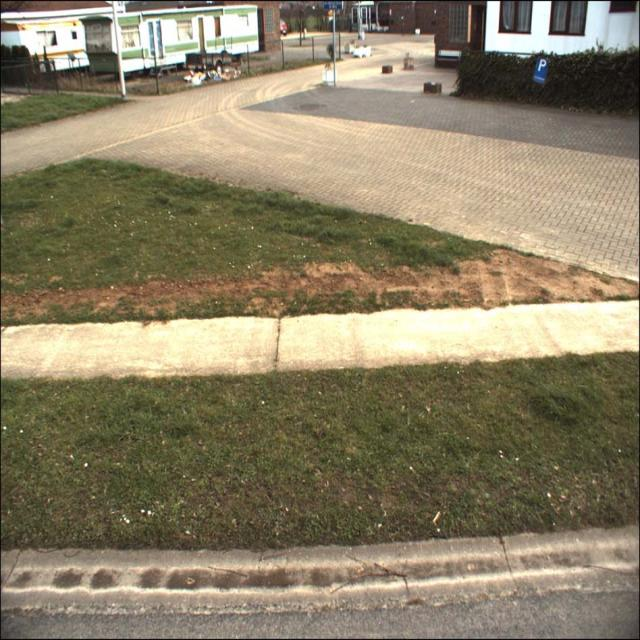park: (532, 57, 550, 83)
